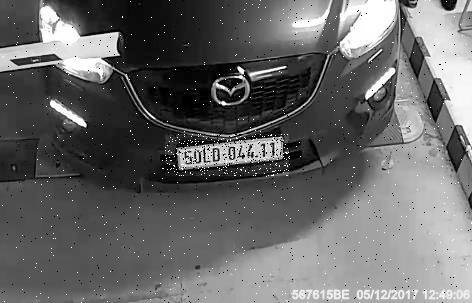License-plate: (167, 135, 292, 177)
